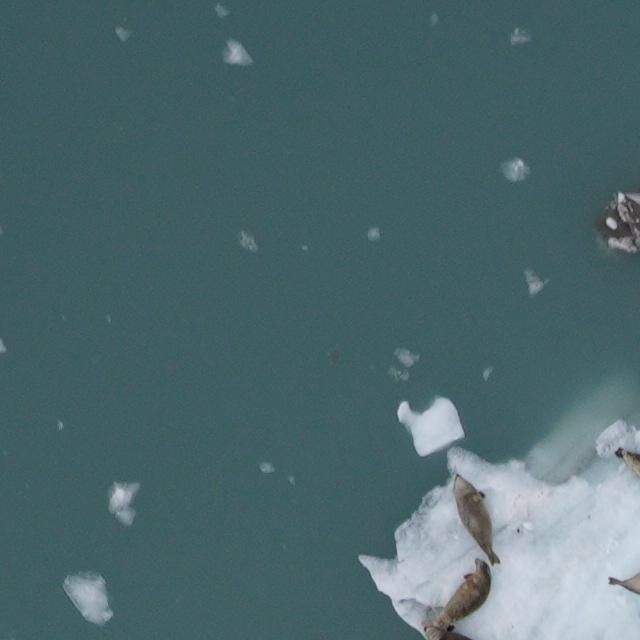seal: (447, 469, 507, 573), (420, 555, 497, 635)
